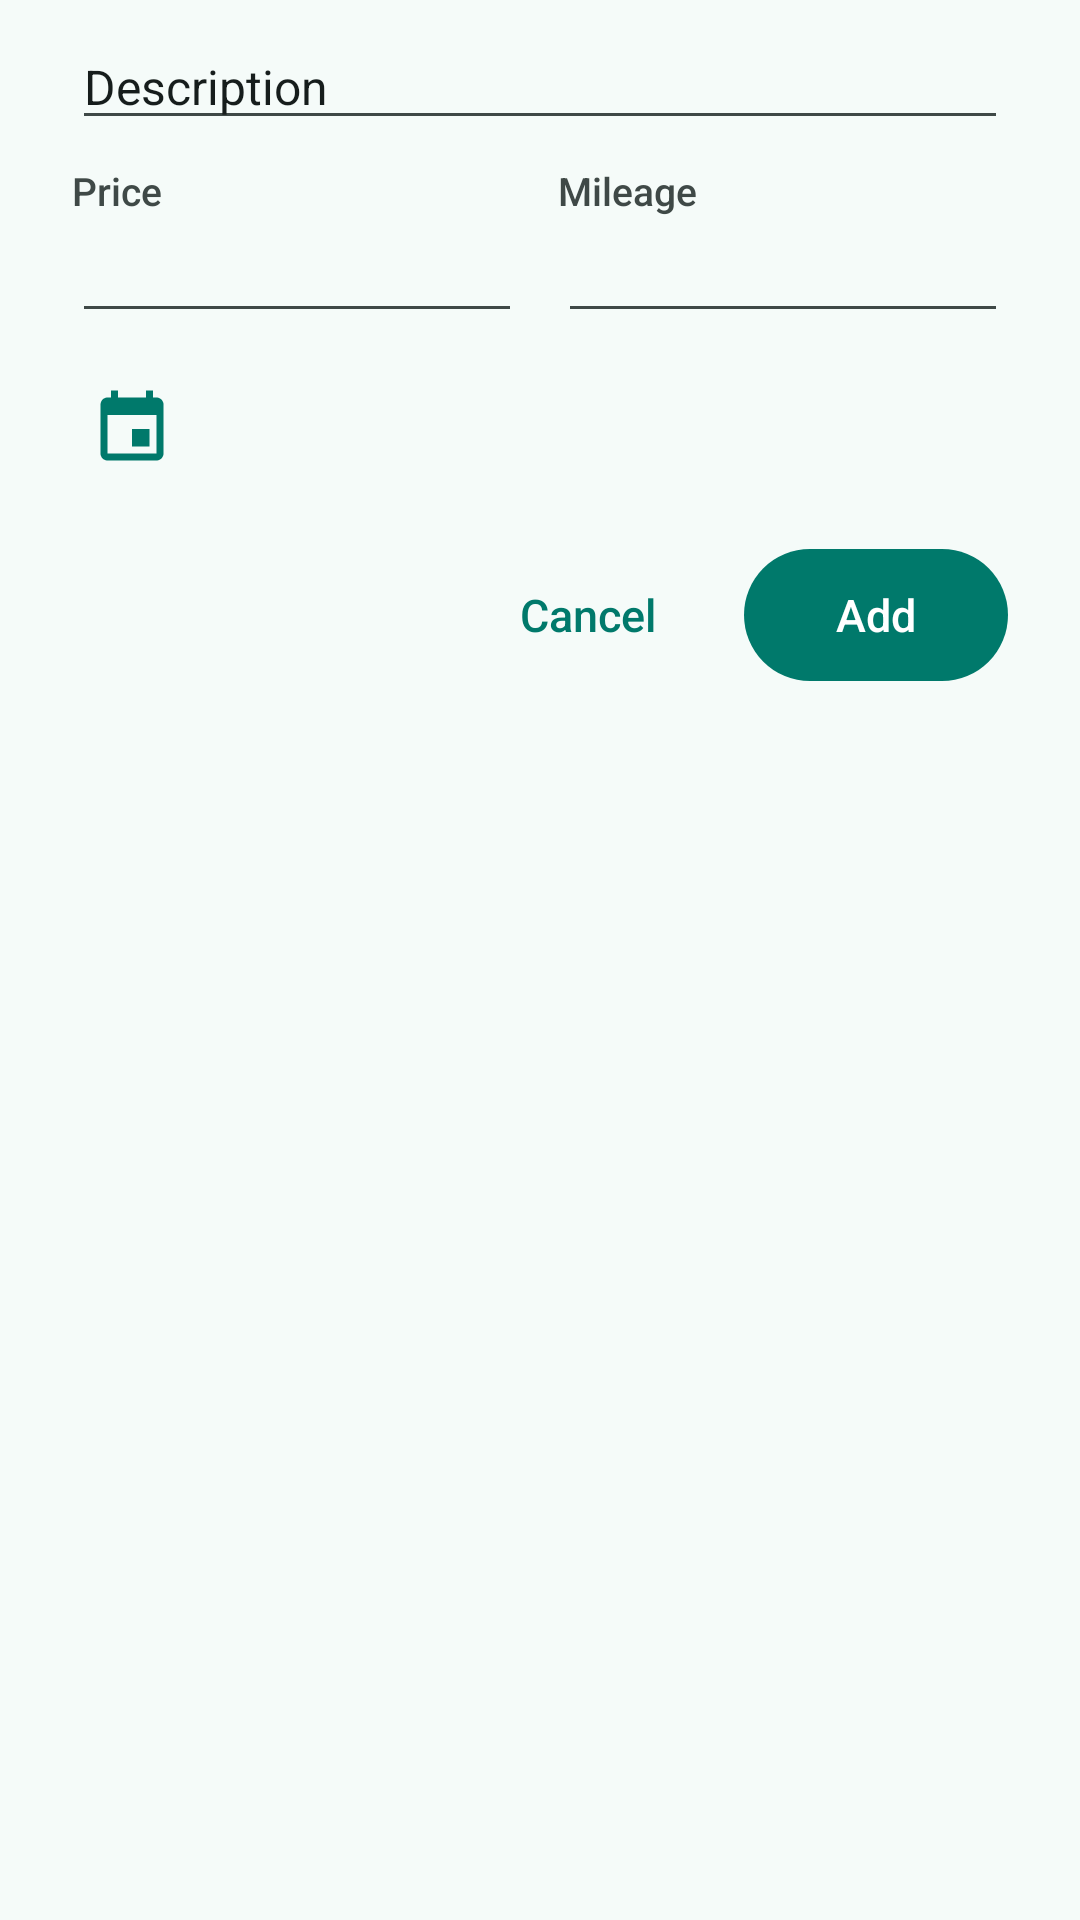

Screen size 1080x1920. Icon name, then its box in pixels as (x1, y1, x2, y2):
Date: (100, 390, 164, 461)
